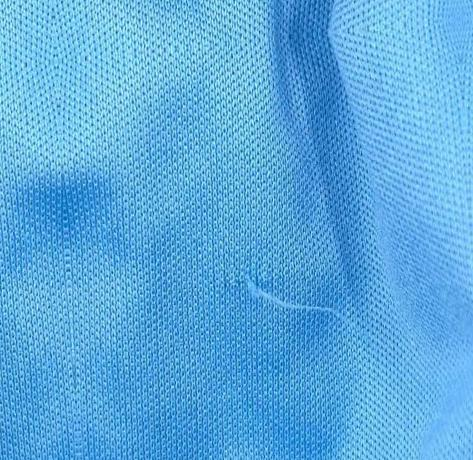snag: (233, 267, 358, 332)
